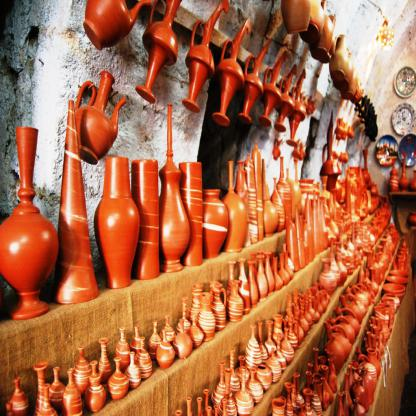vase: (0, 0, 416, 414)
